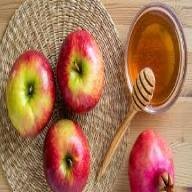apple: (58, 27, 106, 112), (6, 48, 54, 132), (40, 121, 92, 191), (130, 130, 175, 191)
